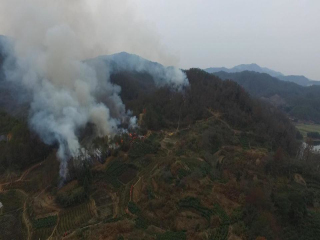smoke: (8, 17, 192, 178)
